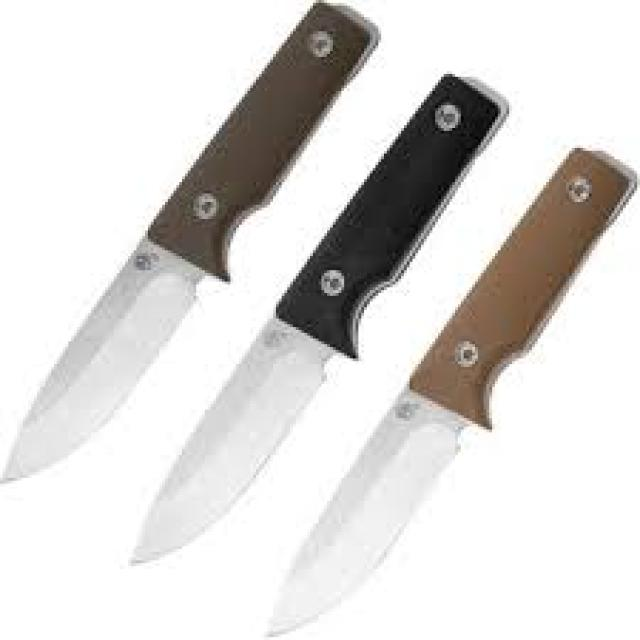knife: (128, 73, 510, 564), (0, 0, 379, 483), (265, 147, 636, 634)
